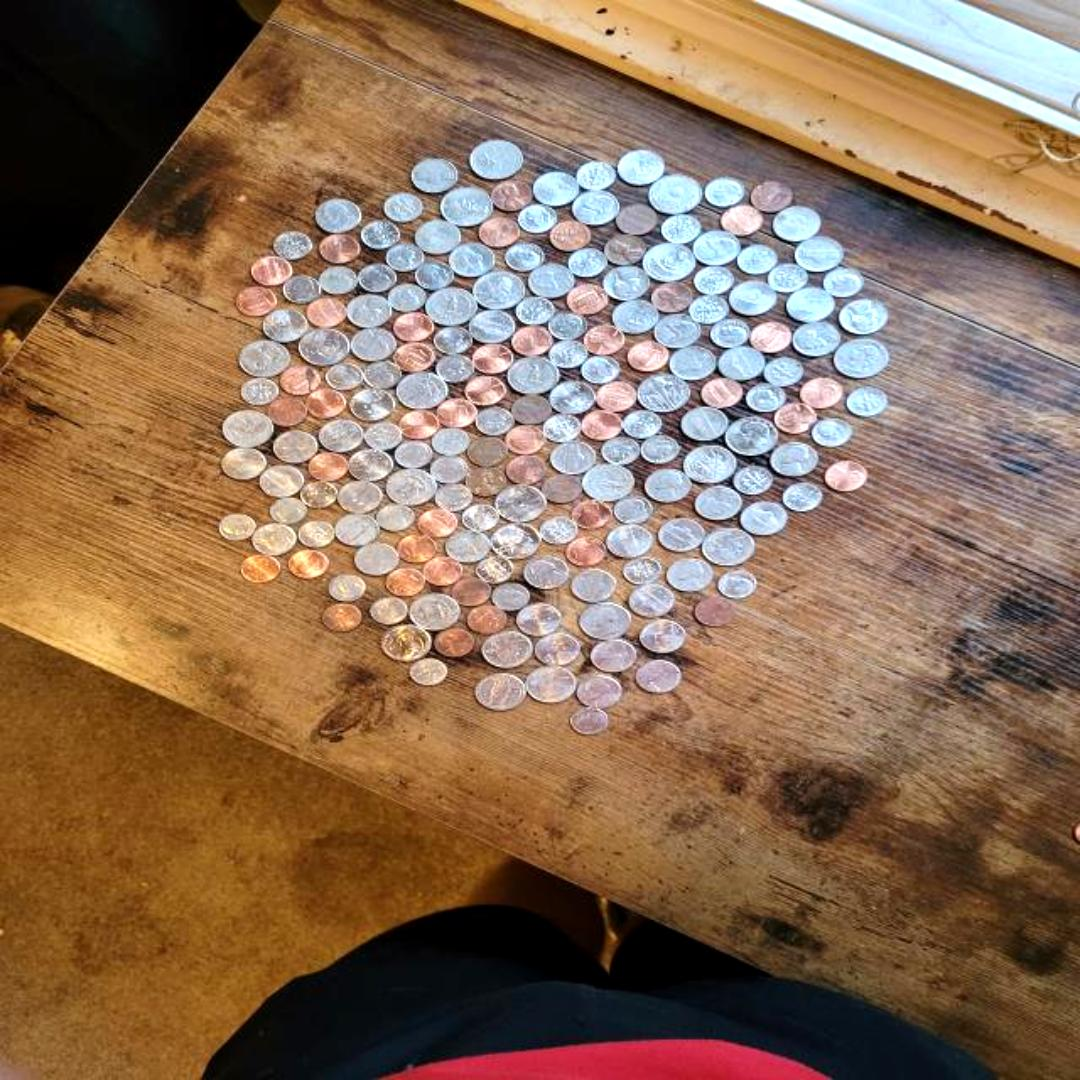Dime: (704, 176, 746, 208), (824, 267, 864, 299), (847, 387, 887, 417), (781, 483, 823, 511), (767, 264, 809, 292), (623, 409, 661, 439), (765, 356, 803, 386), (581, 355, 619, 385), (434, 325, 472, 355), (711, 319, 749, 349), (739, 244, 777, 274), (662, 215, 700, 245), (241, 377, 279, 407), (384, 193, 422, 223), (577, 162, 615, 192), (747, 384, 787, 412), (693, 266, 733, 294), (689, 296, 729, 324), (570, 707, 608, 735), (370, 598, 408, 626), (719, 571, 757, 599), (623, 557, 661, 585), (540, 517, 578, 545), (218, 512, 256, 540), (430, 456, 468, 484), (432, 427, 470, 455), (364, 422, 402, 450), (475, 407, 513, 435), (544, 414, 582, 442), (602, 437, 640, 465), (641, 436, 679, 464), (734, 467, 772, 495), (813, 419, 851, 447), (550, 340, 588, 368), (326, 362, 364, 390), (549, 312, 587, 340), (517, 297, 555, 325), (569, 248, 607, 276), (506, 242, 544, 270), (388, 284, 426, 312), (416, 262, 454, 290), (386, 244, 424, 272), (358, 264, 396, 292), (274, 232, 312, 260), (362, 221, 400, 249), (518, 205, 556, 233), (614, 496, 652, 524), (283, 276, 323, 302), (329, 574, 366, 602), (301, 480, 338, 508), (377, 503, 414, 531), (435, 484, 472, 512), (410, 659, 448, 686), (476, 557, 514, 584), (394, 441, 432, 468), (462, 504, 498, 532), (298, 520, 334, 548), (364, 361, 400, 389), (320, 266, 356, 294), (268, 498, 306, 524), (436, 356, 474, 382), (491, 584, 529, 610)
Nickel: (448, 242, 496, 280), (771, 206, 821, 242), (669, 345, 717, 382), (840, 298, 888, 335), (716, 346, 766, 381), (526, 262, 574, 298), (602, 266, 650, 302), (692, 230, 740, 266), (794, 236, 842, 272), (572, 190, 620, 226), (612, 298, 658, 335), (616, 150, 666, 184), (654, 313, 702, 348), (682, 406, 728, 442), (570, 568, 616, 604), (786, 288, 834, 322), (344, 294, 392, 328), (548, 440, 596, 474), (770, 442, 818, 476), (413, 220, 461, 254), (534, 170, 579, 206), (412, 159, 458, 194), (792, 322, 838, 356), (262, 310, 308, 344), (220, 446, 266, 480), (628, 584, 674, 618), (730, 282, 776, 316), (470, 309, 514, 344), (334, 514, 382, 546), (605, 526, 653, 558), (694, 488, 742, 520), (522, 556, 570, 588), (550, 380, 595, 414), (741, 502, 786, 536), (645, 468, 690, 502), (658, 518, 704, 551), (516, 603, 562, 636), (666, 559, 712, 592), (348, 448, 392, 482), (338, 480, 382, 514), (319, 420, 364, 453), (536, 634, 581, 667), (350, 328, 396, 360), (576, 677, 622, 709), (590, 640, 636, 672), (444, 531, 490, 563), (252, 524, 298, 556), (350, 388, 396, 420), (639, 620, 684, 652), (356, 543, 399, 576), (636, 660, 680, 692), (316, 200, 360, 232), (273, 431, 316, 463), (260, 467, 302, 499)
Penny: (489, 180, 531, 212), (318, 233, 360, 265), (393, 342, 435, 374), (510, 325, 552, 357), (567, 284, 609, 316), (584, 324, 626, 356), (625, 340, 667, 372), (749, 322, 791, 354), (799, 378, 841, 410), (774, 402, 816, 434), (824, 460, 866, 492), (580, 409, 622, 441), (751, 180, 793, 212), (505, 454, 547, 486), (540, 473, 582, 505), (720, 205, 762, 237), (510, 395, 554, 425), (478, 217, 518, 249), (306, 297, 346, 329), (280, 365, 320, 397), (549, 221, 591, 251), (615, 205, 657, 235), (250, 256, 292, 286), (651, 282, 693, 312), (700, 378, 742, 408), (595, 382, 637, 412), (466, 437, 508, 467), (464, 467, 506, 497), (565, 536, 607, 566), (450, 577, 492, 607), (236, 287, 276, 317), (505, 425, 545, 455), (398, 409, 438, 439), (307, 452, 347, 482), (466, 604, 506, 634), (417, 508, 457, 538), (603, 236, 645, 264), (472, 345, 514, 373), (466, 376, 504, 406), (305, 388, 343, 418), (266, 397, 304, 427), (696, 597, 734, 627), (323, 602, 361, 632), (423, 556, 461, 586), (398, 533, 436, 563), (393, 313, 433, 341), (436, 399, 476, 427), (288, 551, 328, 579), (239, 555, 279, 583), (572, 501, 610, 529), (434, 629, 472, 657), (385, 568, 423, 596)
Quarter: (440, 187, 494, 227), (834, 339, 888, 379), (648, 175, 703, 213), (644, 242, 696, 282), (469, 140, 523, 178), (473, 271, 527, 309), (683, 445, 737, 483), (701, 529, 755, 566), (636, 374, 688, 412), (396, 372, 448, 410), (425, 287, 477, 325), (724, 417, 776, 455), (495, 484, 547, 522), (408, 594, 462, 630), (583, 465, 635, 502), (240, 339, 290, 377), (579, 602, 631, 638), (475, 674, 527, 710), (481, 632, 533, 668), (508, 356, 558, 393), (300, 329, 350, 366), (223, 410, 273, 447), (381, 624, 431, 661), (387, 468, 435, 506), (526, 666, 576, 702), (492, 522, 540, 558)
